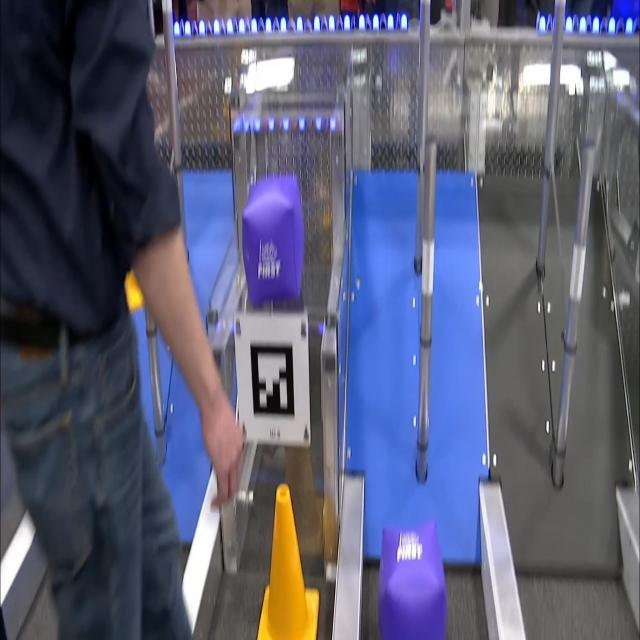frc_cone: (255, 475, 319, 640)
frc_cube: (240, 180, 302, 311), (379, 522, 443, 640)
